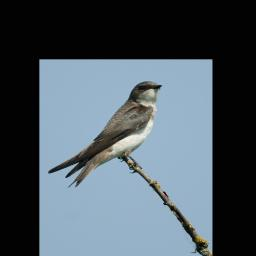Swallow: (48, 81, 163, 188)
